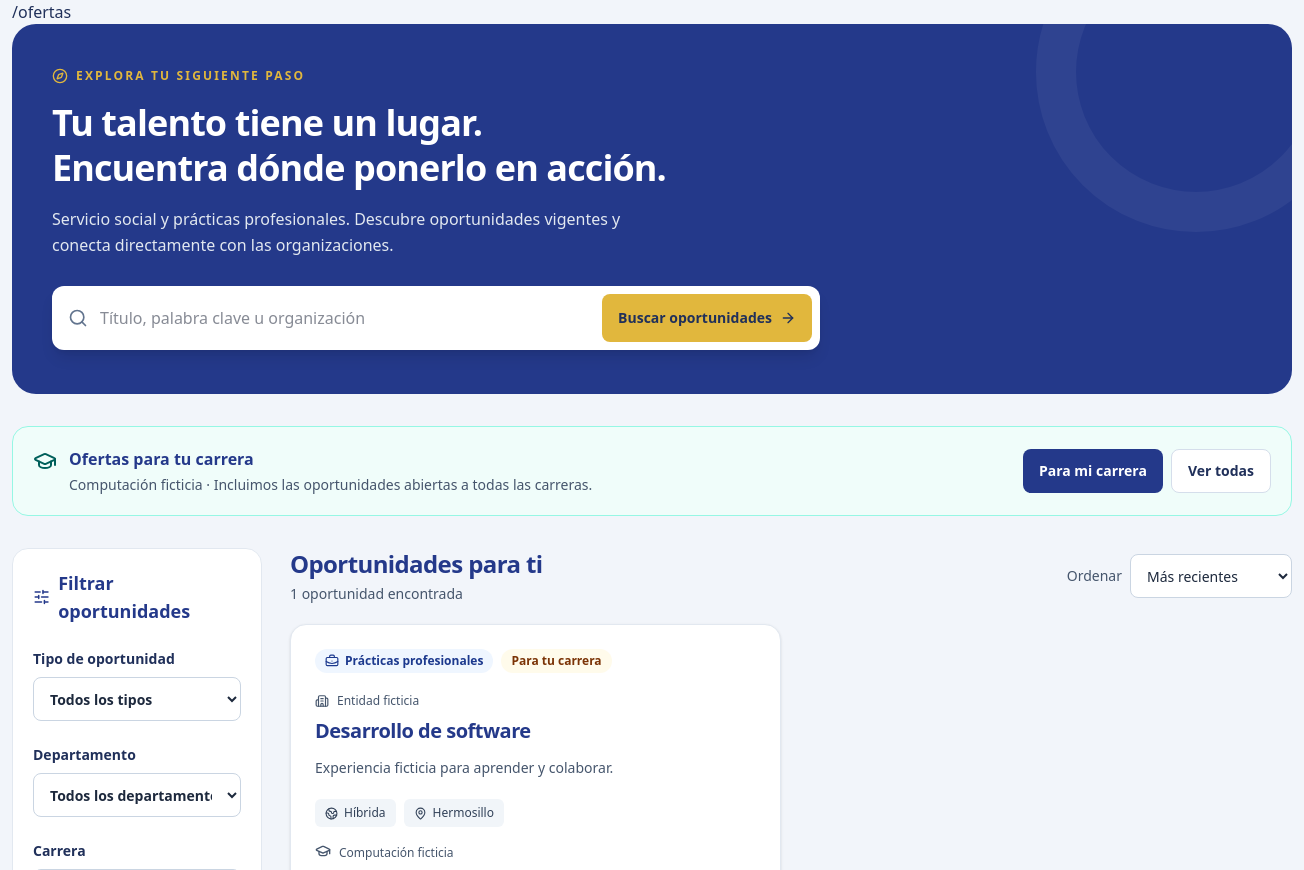
Test: Catálogo para estudiantes y exploración › departamento limita carreras y cambia a exploración explícita
Expected: the link "Desarrollo de software" is shown, [315,717,531,744]
Select "Artes" in the dropdown labelled "Departamento" at point(137, 795), box [33,773,241,817]
(page scrolled)
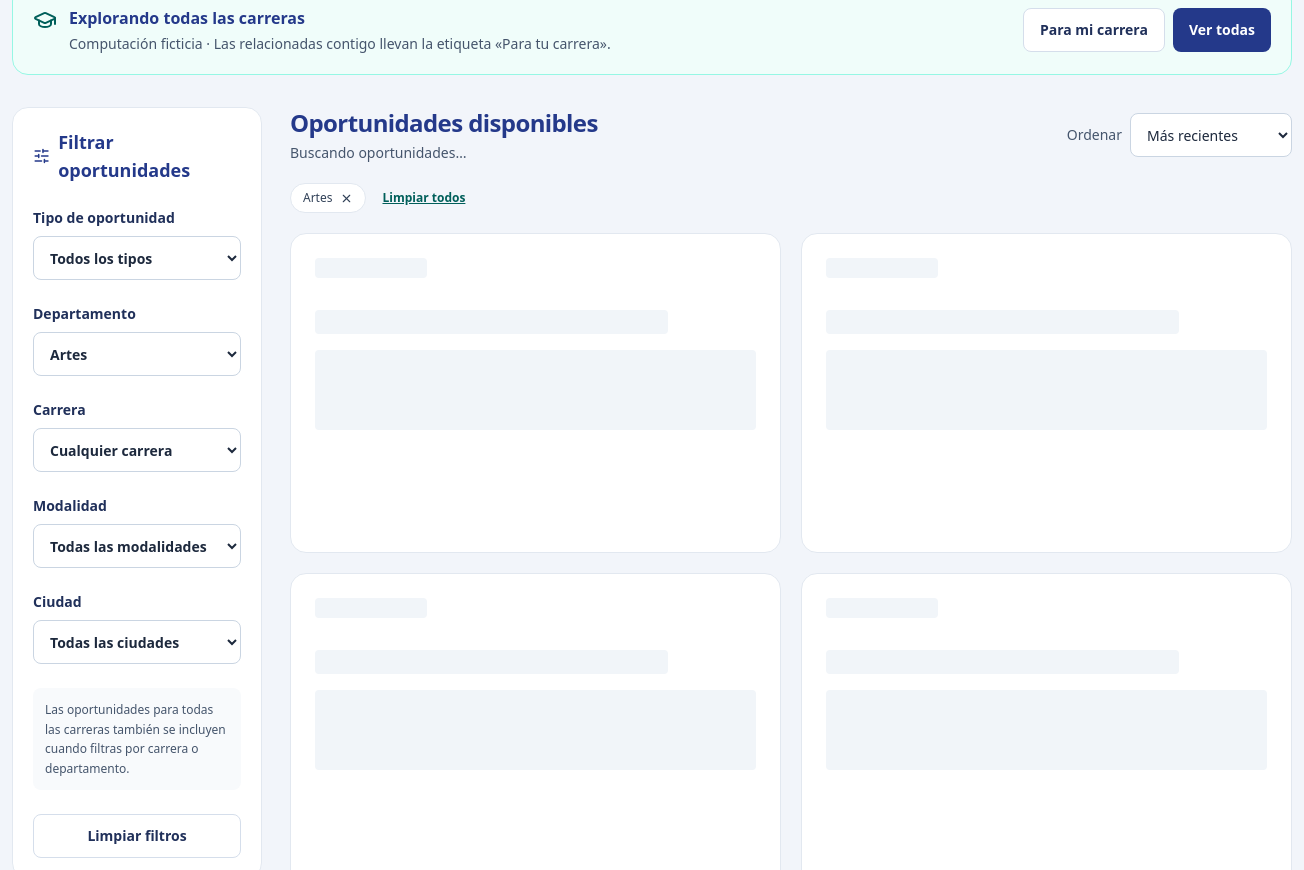
Select "Artes ficticias" in the dropdown labelled "Carrera" at point(137, 450), box [33,428,241,472]
(page scrolled)
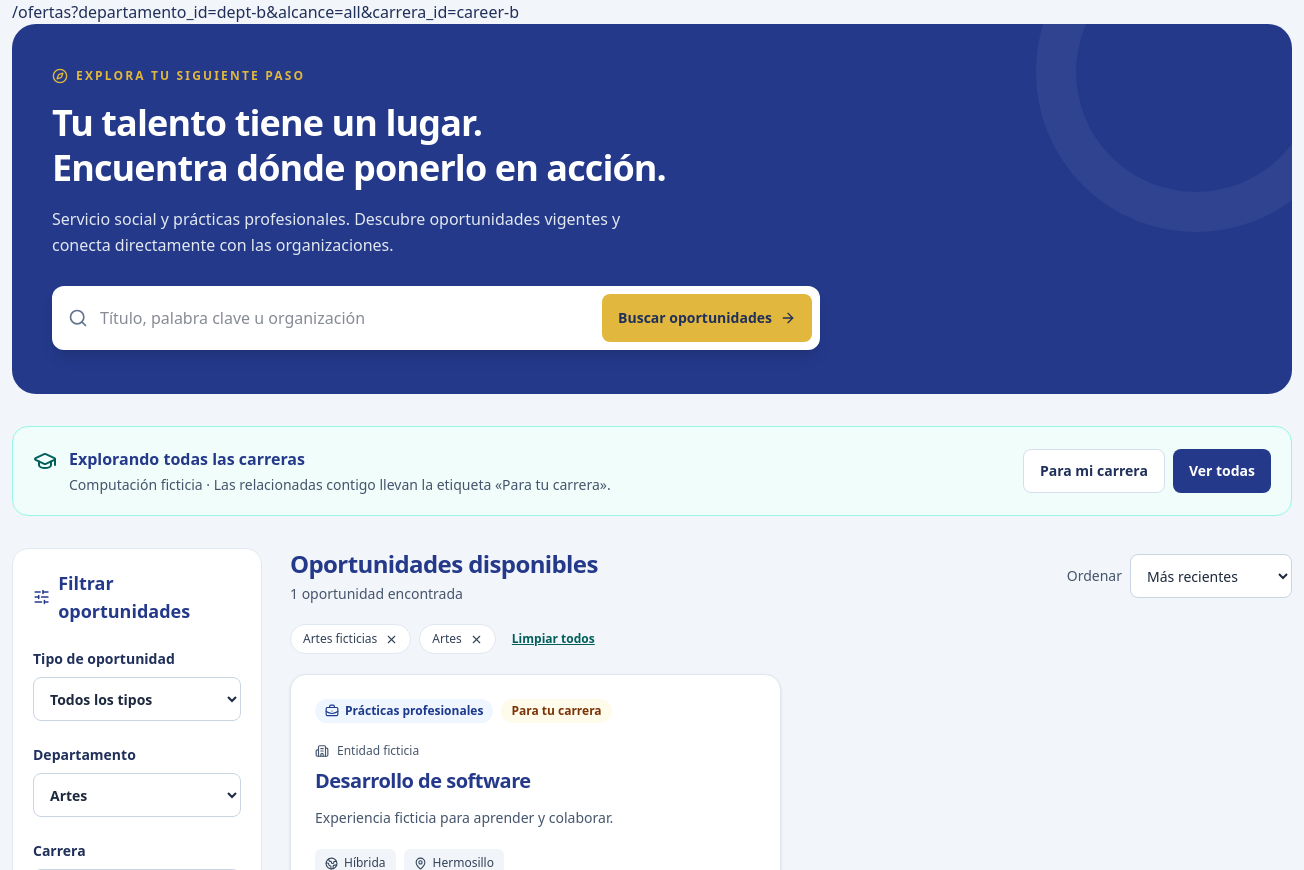
Now the text with test id "url" shows "alcance=all", box [12,1,519,23]
Now the text with test id "url" shows "carrera_id=career-b", box [12,1,519,23]
